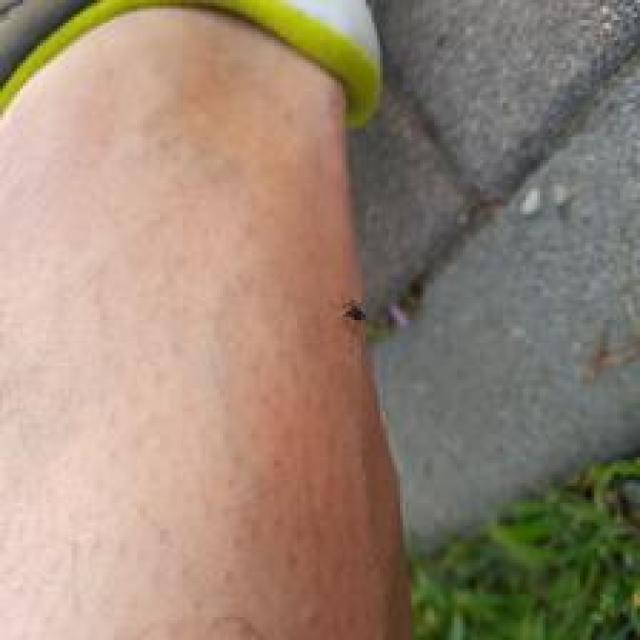Aedes albopictus: (0, 0, 385, 134)
